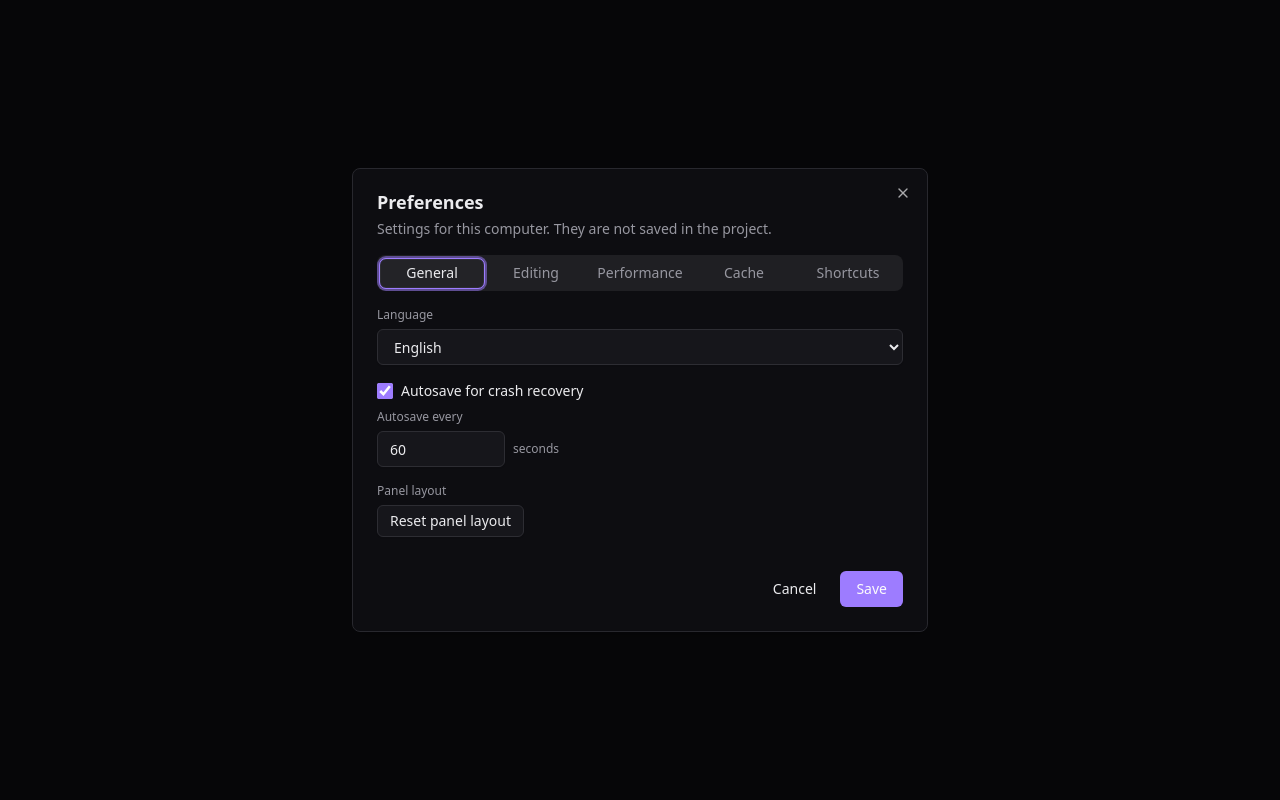
Test: PreferencesDialog › keeps the dialog open and marks the field Rust rejected
Click the button "Save": (872, 589) [840, 571, 903, 607]
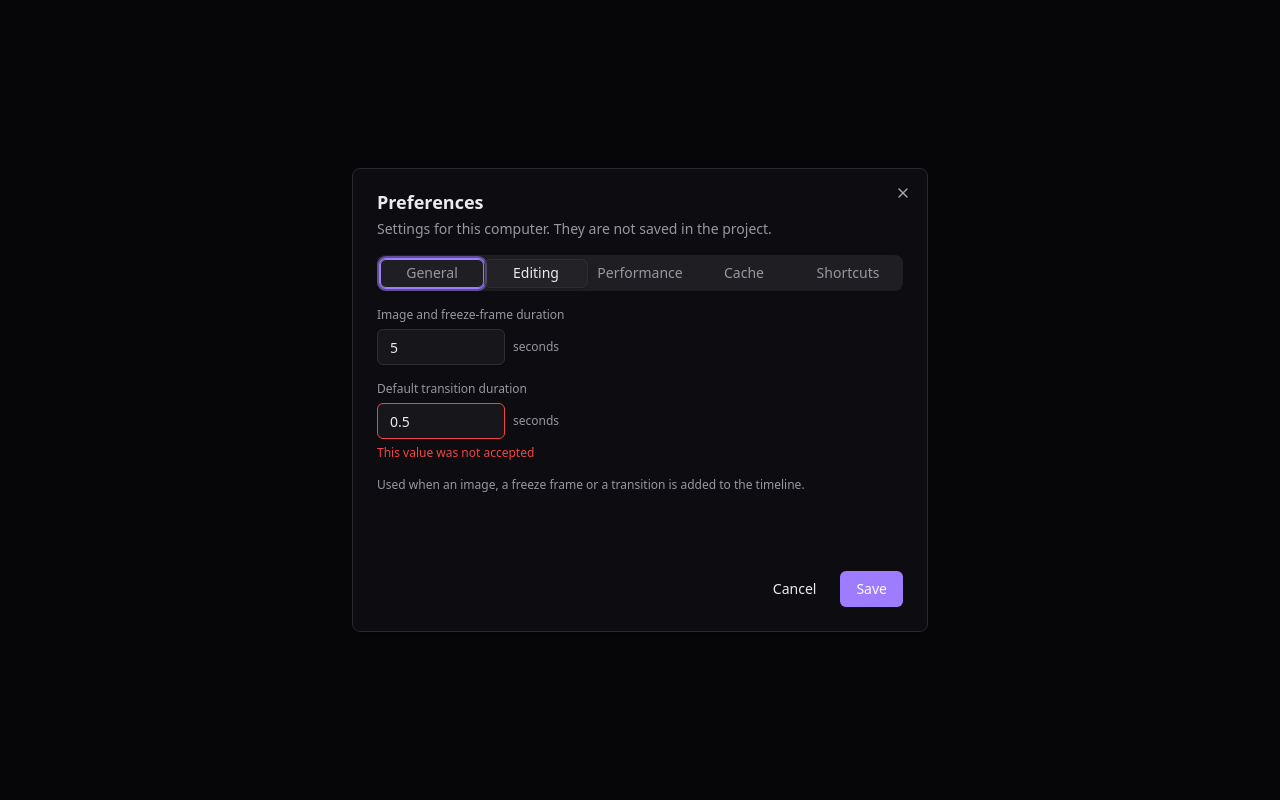
Check: the text "This value was not accepted" is shown, box [377, 444, 534, 461]
